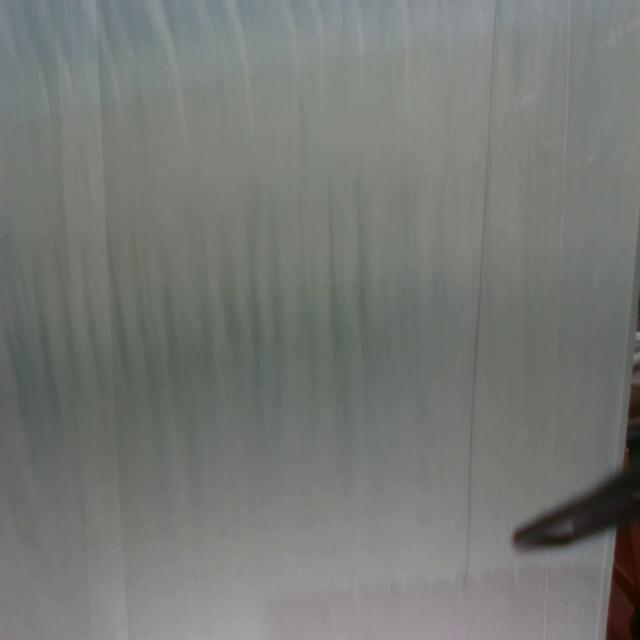crease: (62, 0, 126, 640), (461, 0, 499, 588), (547, 0, 572, 494), (540, 553, 551, 640)
